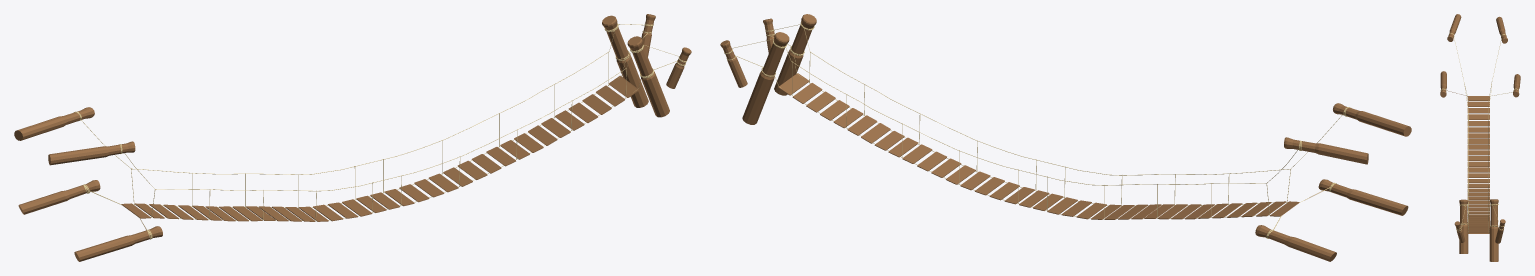
Rendered from ponteSospesoAria.fbx.
The picture shows the model from 3 angles, left to right: view 1: azimuth 30°, elevation 25°; view 2: azimuth 150°, elevation 25°; view 3: azimuth 270°, elevation 25°; orthographic projection. The views are drawn at different scales.
Visible parts, largest first — view 1: Cylinder.003; view 2: Cylinder.003; view 3: Cylinder.003.
Part boxes in pixels (x1=…): Cylinder.003: x1=14, y1=14, x2=691, y2=261; Cylinder.003: x1=720, y1=14, x2=1411, y2=261; Cylinder.003: x1=1440, y1=14, x2=1520, y2=261.
Bounding box in the file's own units: 877 × 189 × 163.
